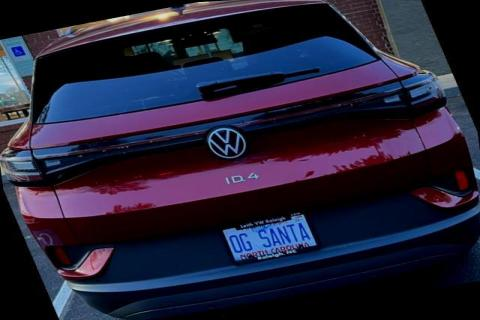LicensePlate: (216, 209, 321, 264)
